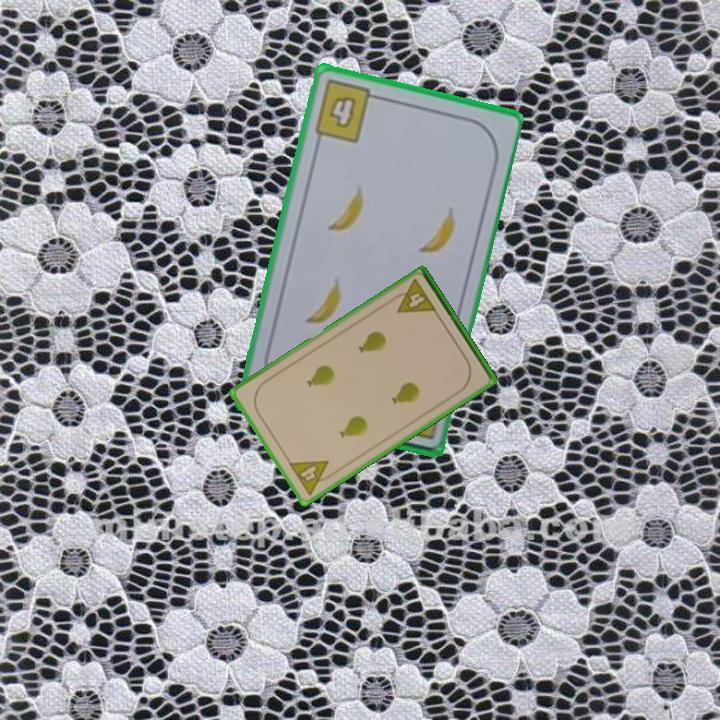4b: (310, 76, 384, 146)
4p: (285, 457, 338, 498), (387, 276, 439, 317)
